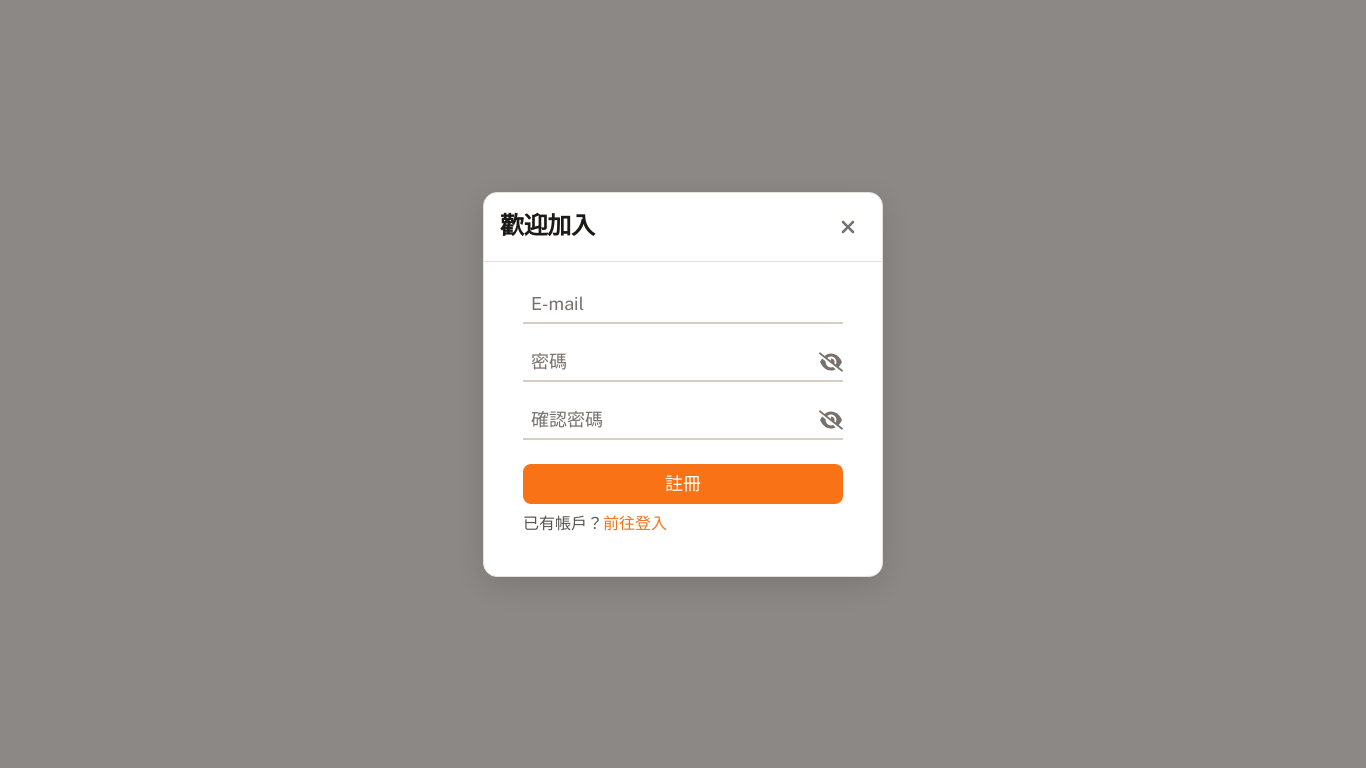
it: 註冊功能(SignUp) › 測試密碼與確認密碼不相符
Type "test@example.com" into the field with placeholder "E-mail". click: {"x": 683, "y": 304}
box: left=523, top=286, right=843, bottom=324
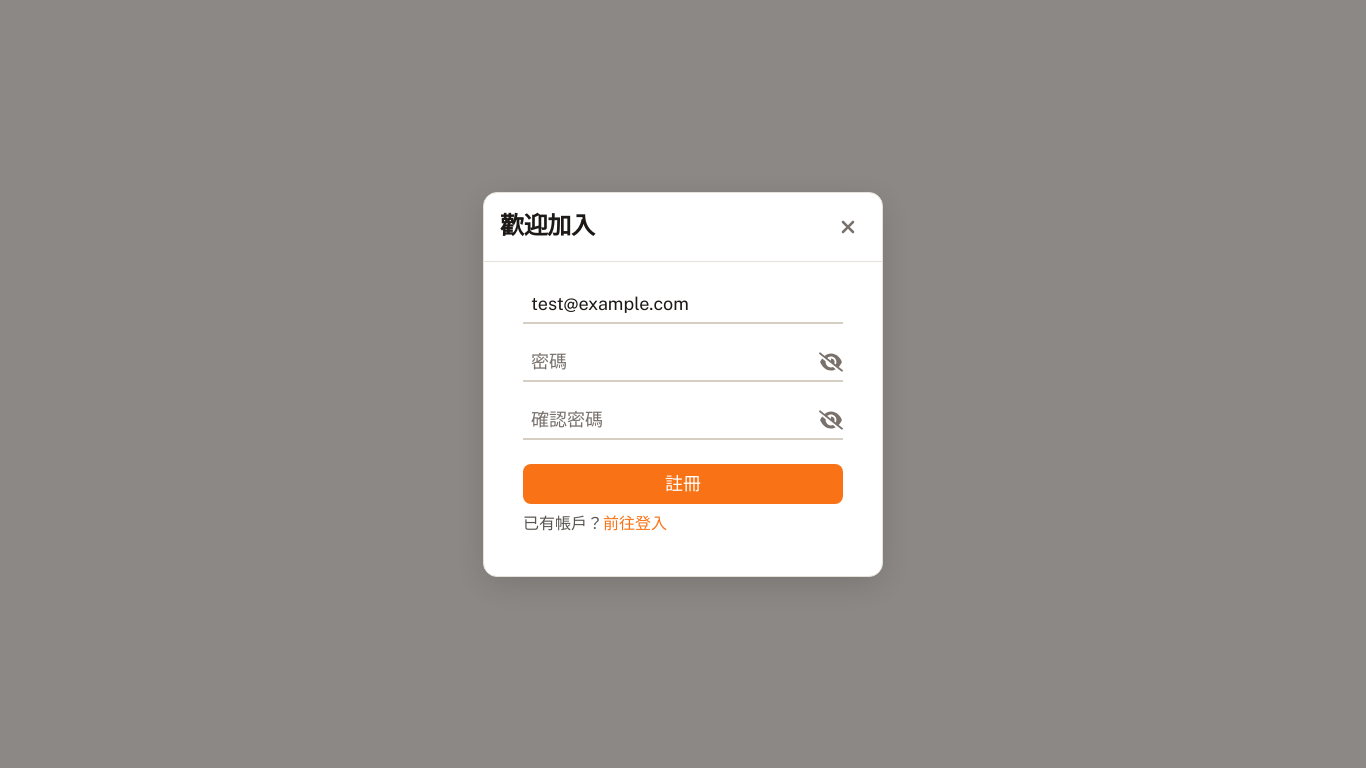
Type "password123" into the password field with placeholder "密碼". click: {"x": 683, "y": 362}
box: left=523, top=344, right=843, bottom=382
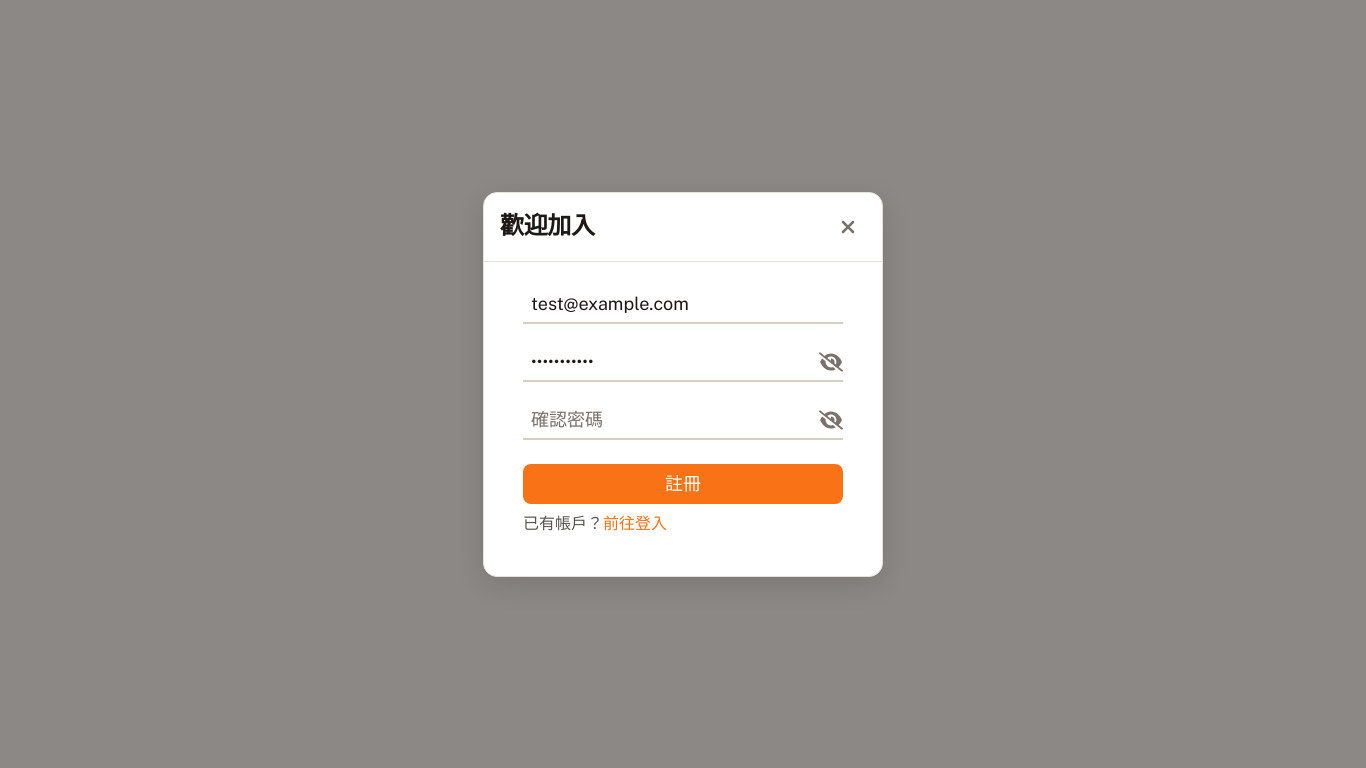
Type "password456" into the password field with placeholder "確認密碼". click: {"x": 683, "y": 420}
box: left=523, top=402, right=843, bottom=440
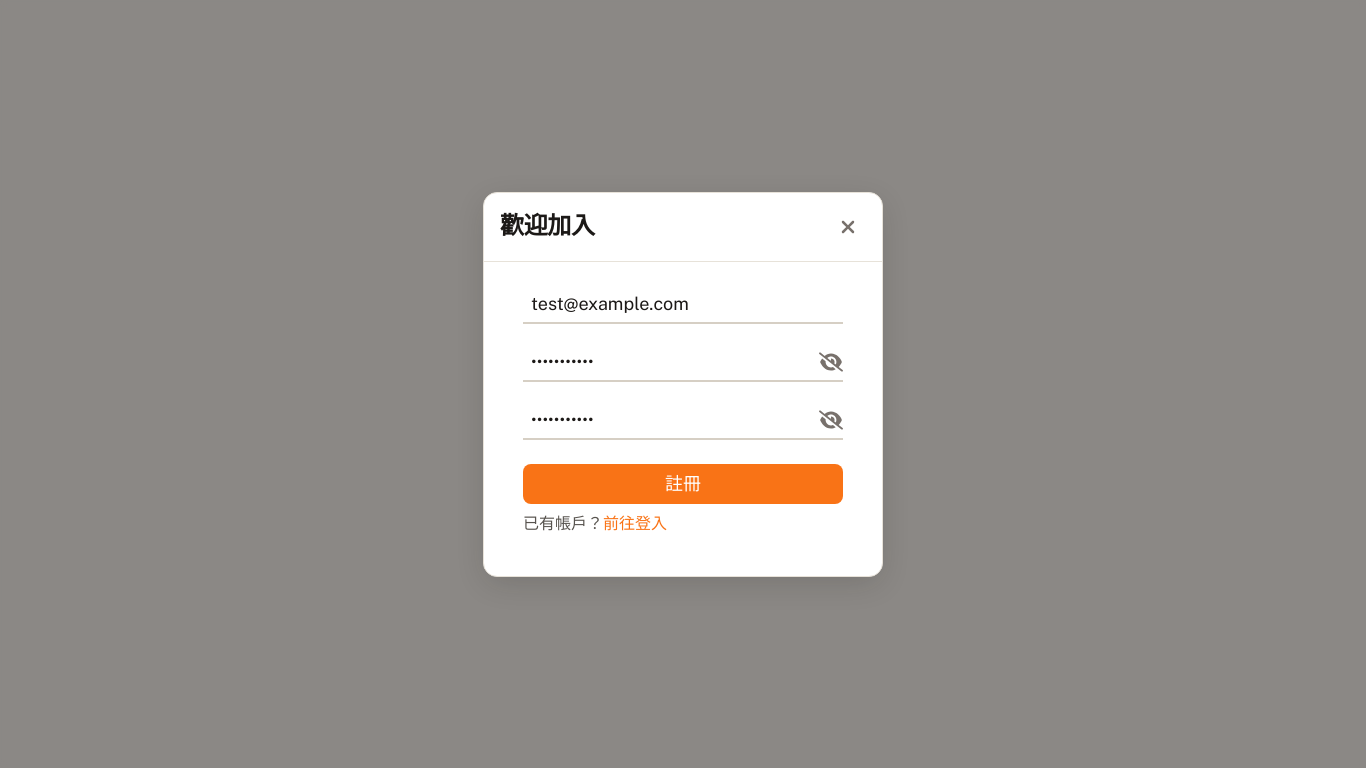
Click the button "註冊". click: {"x": 683, "y": 484}
box: left=523, top=464, right=843, bottom=504
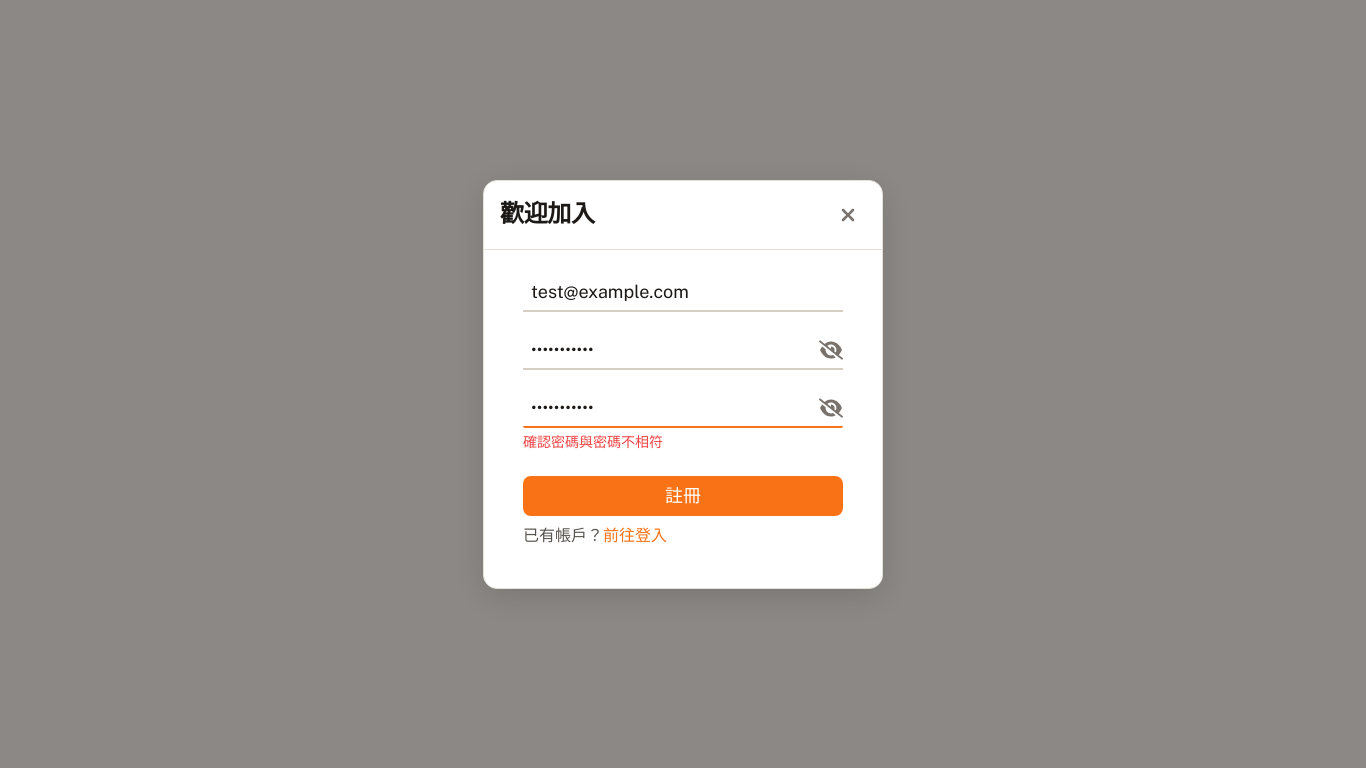
Expected: the text "確認密碼與密碼不相符" is shown, left=523, top=434, right=663, bottom=450
